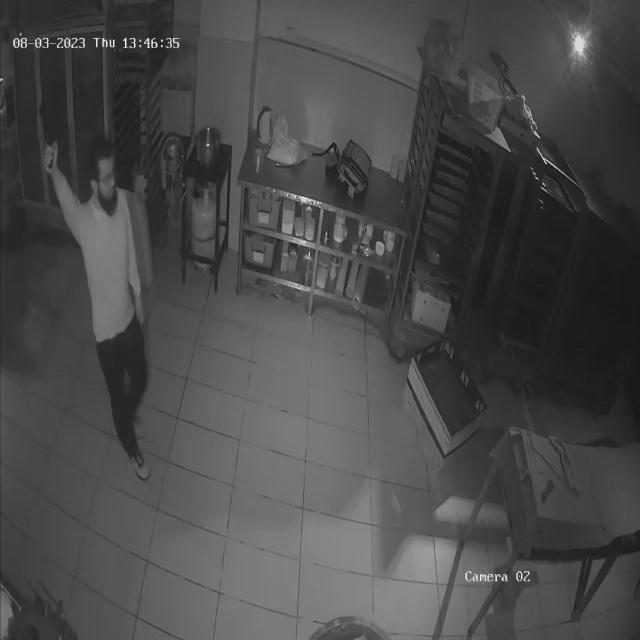Gun: (26, 106, 66, 176)
